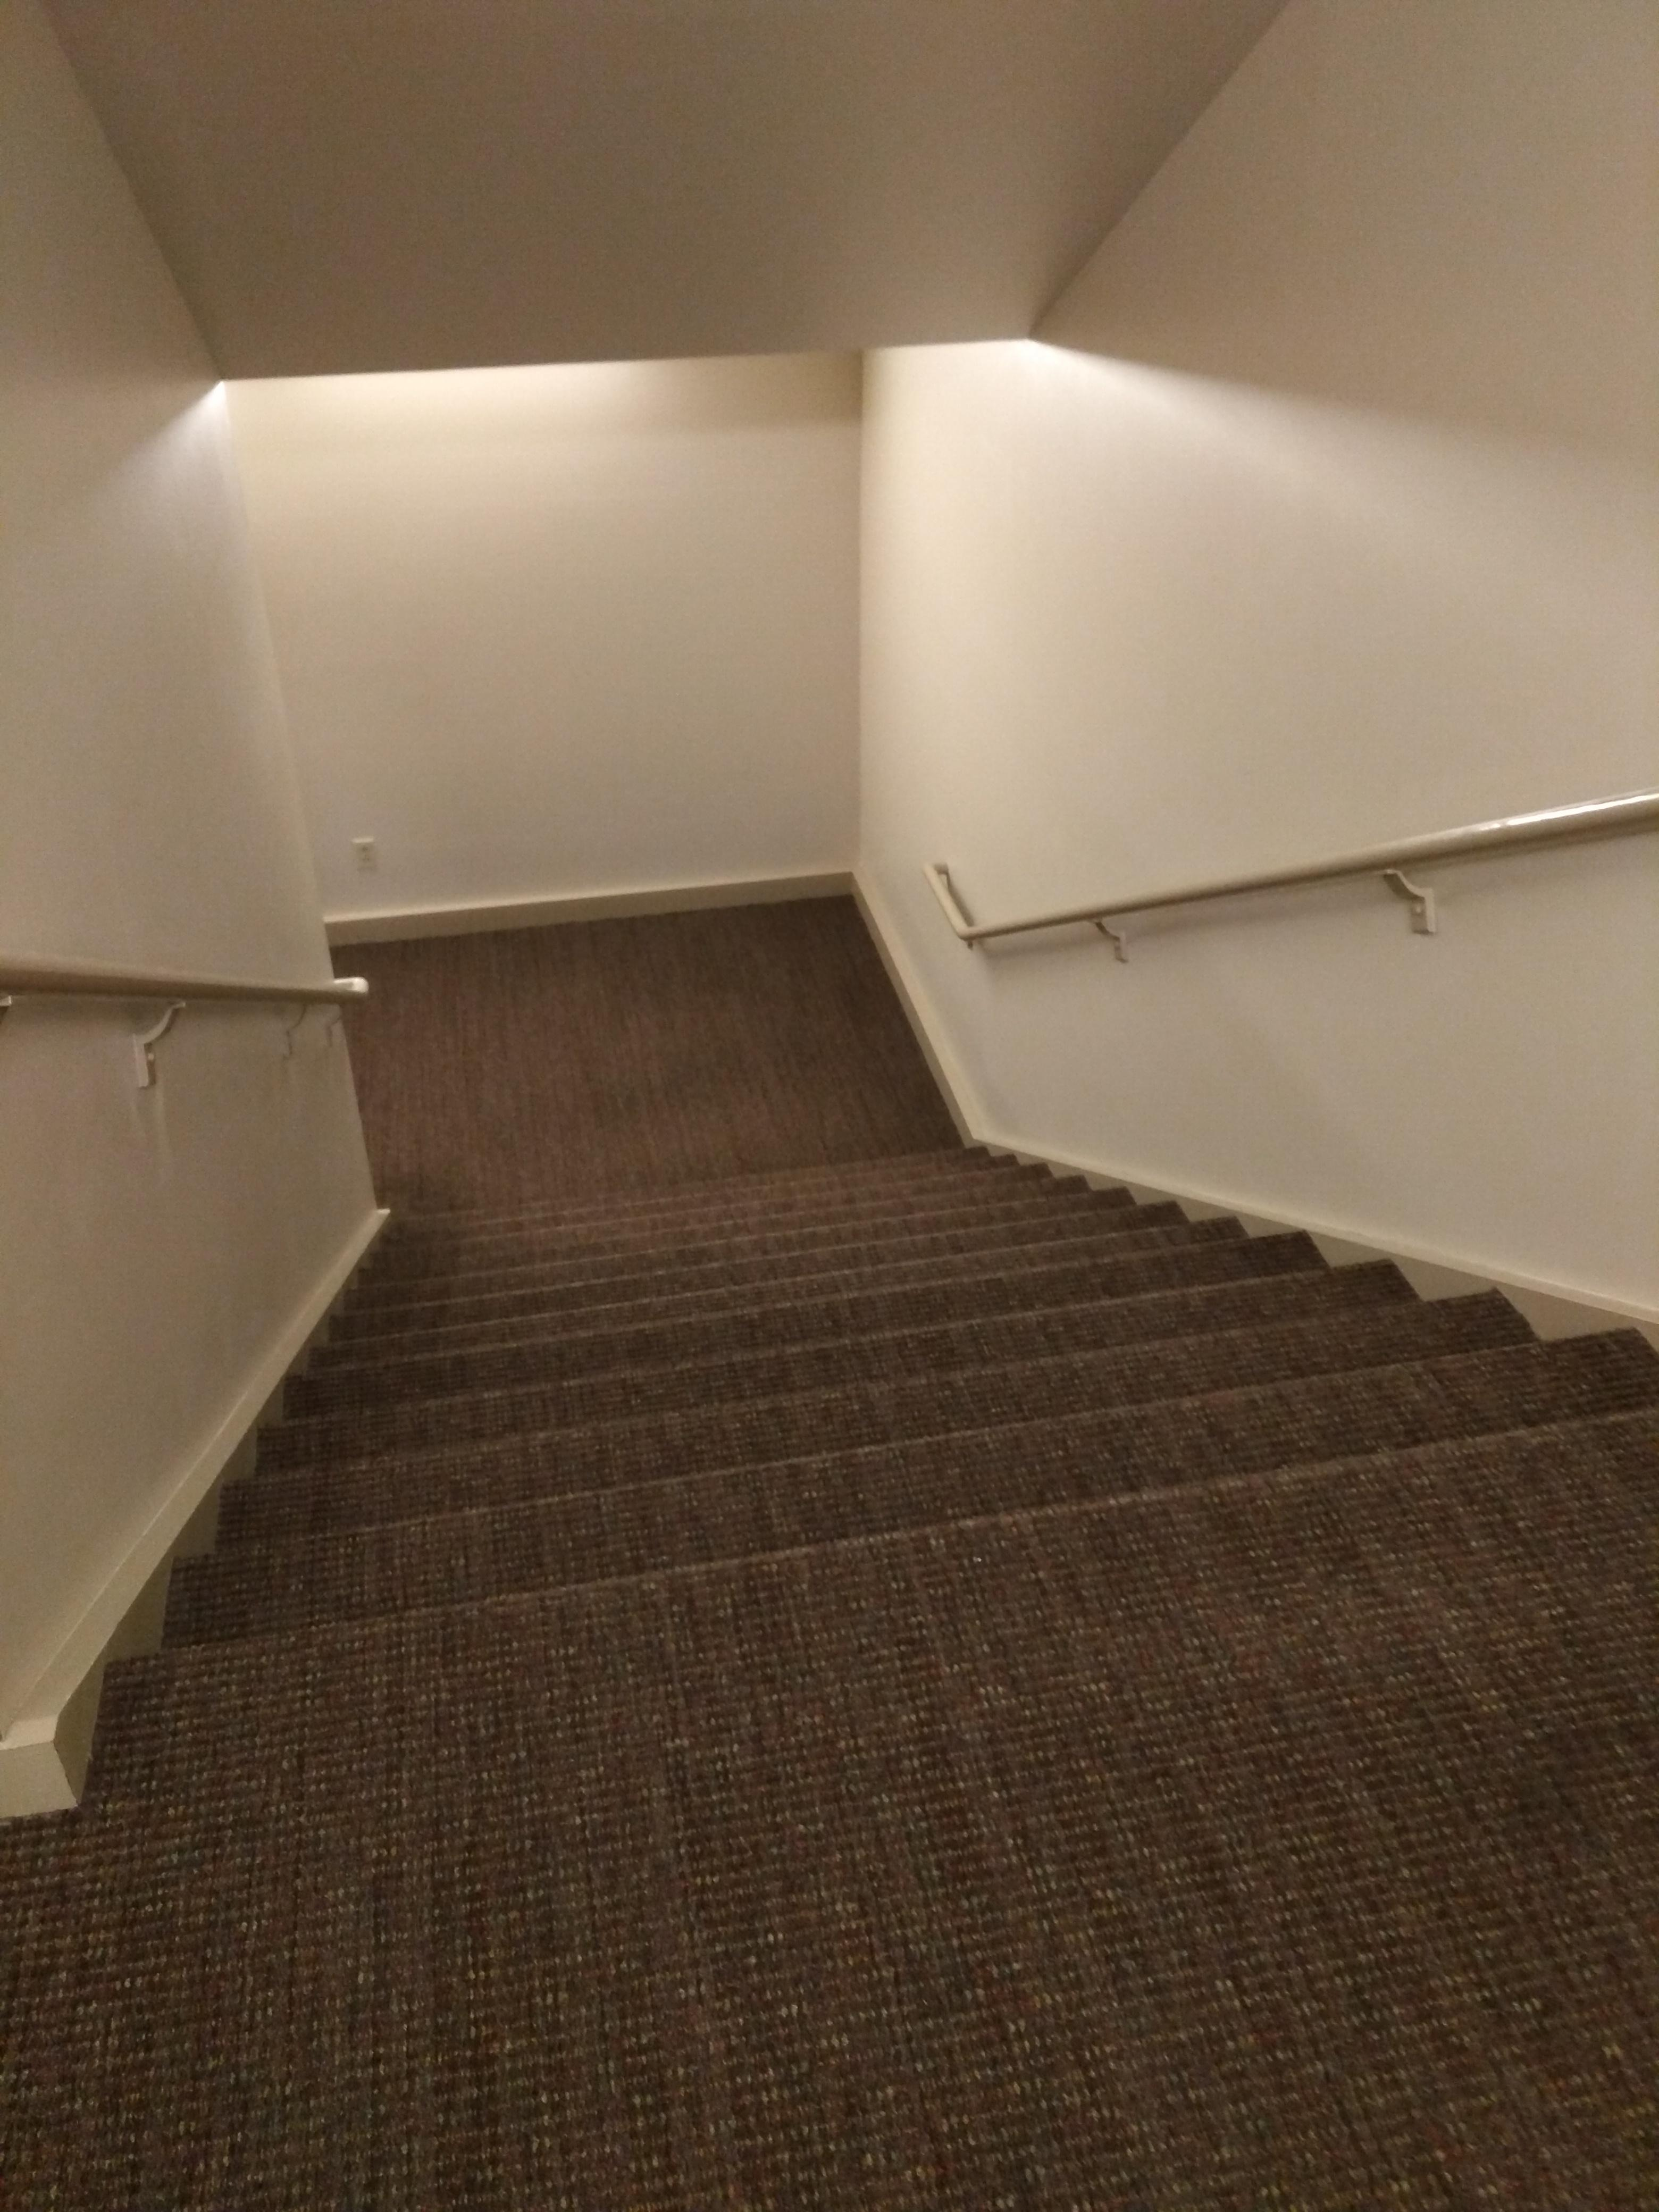stairs_down: (136, 1160, 1659, 1689)
